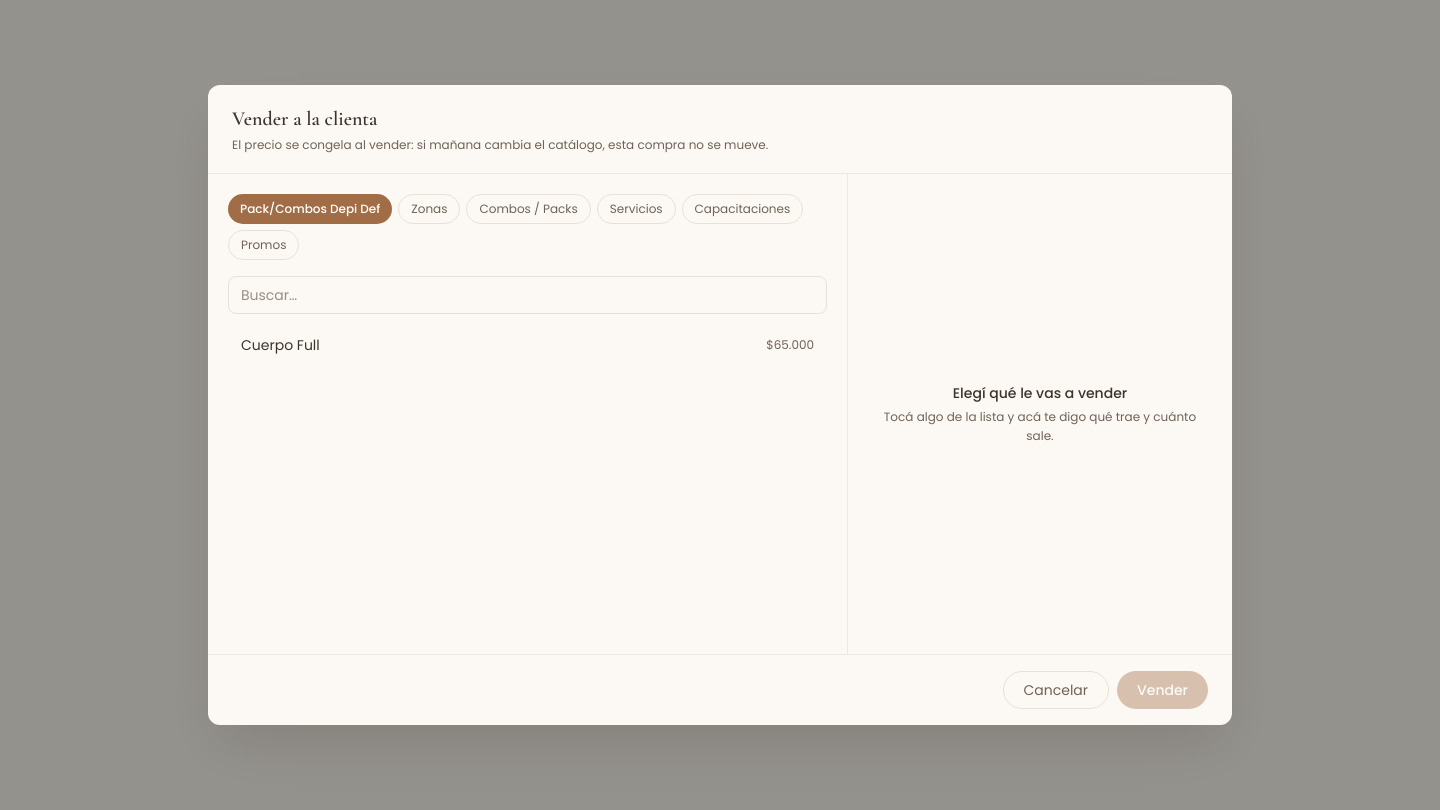
VenderModal — saldo a favor › si el saldo cubre todo, lo dice
Click the button "Cuerpo Full $65.000" at (280, 345), box [228,326,827,364]
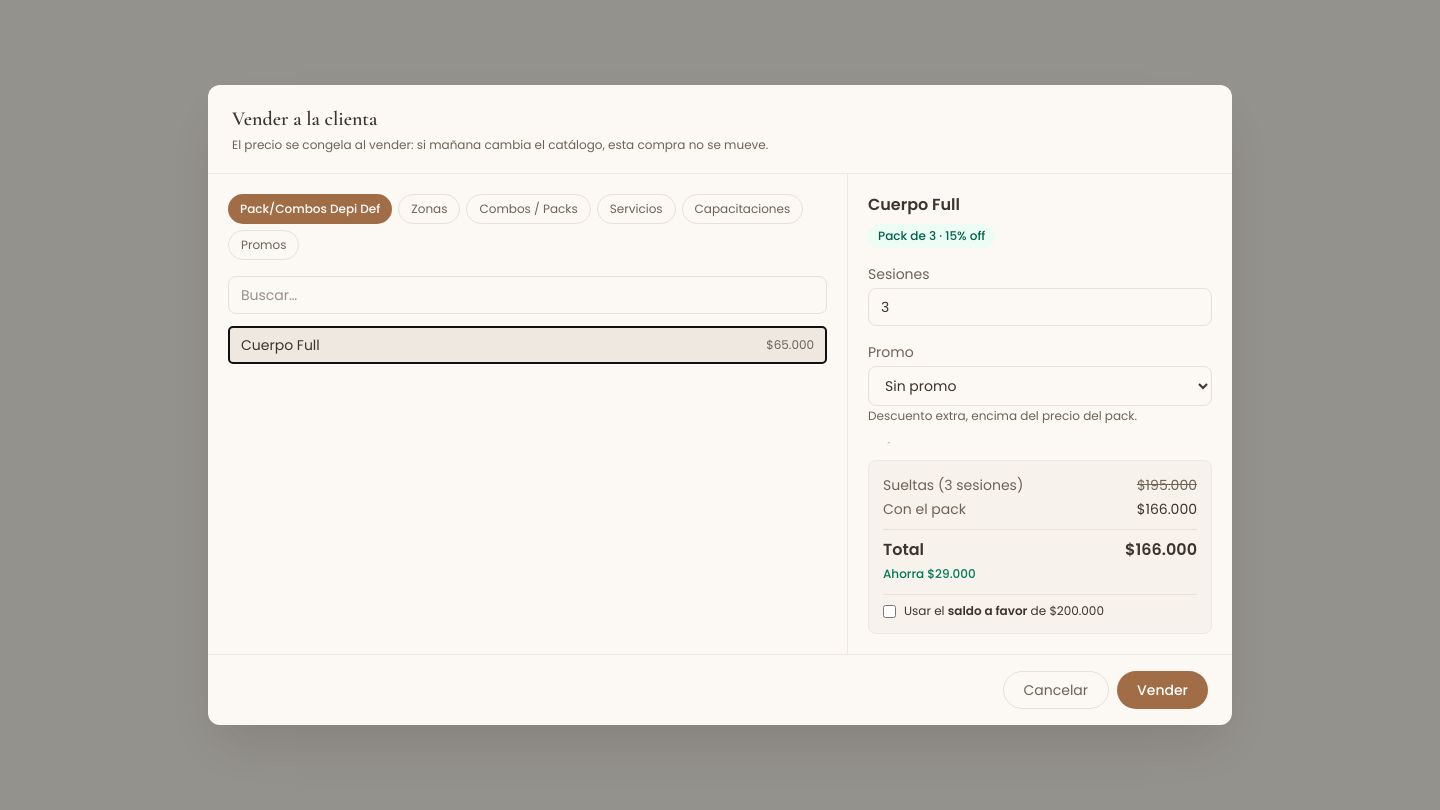
Click the checkbox labelled "Usar el saldo a favor de $200.000" at (890, 612), box [883,605,896,618]
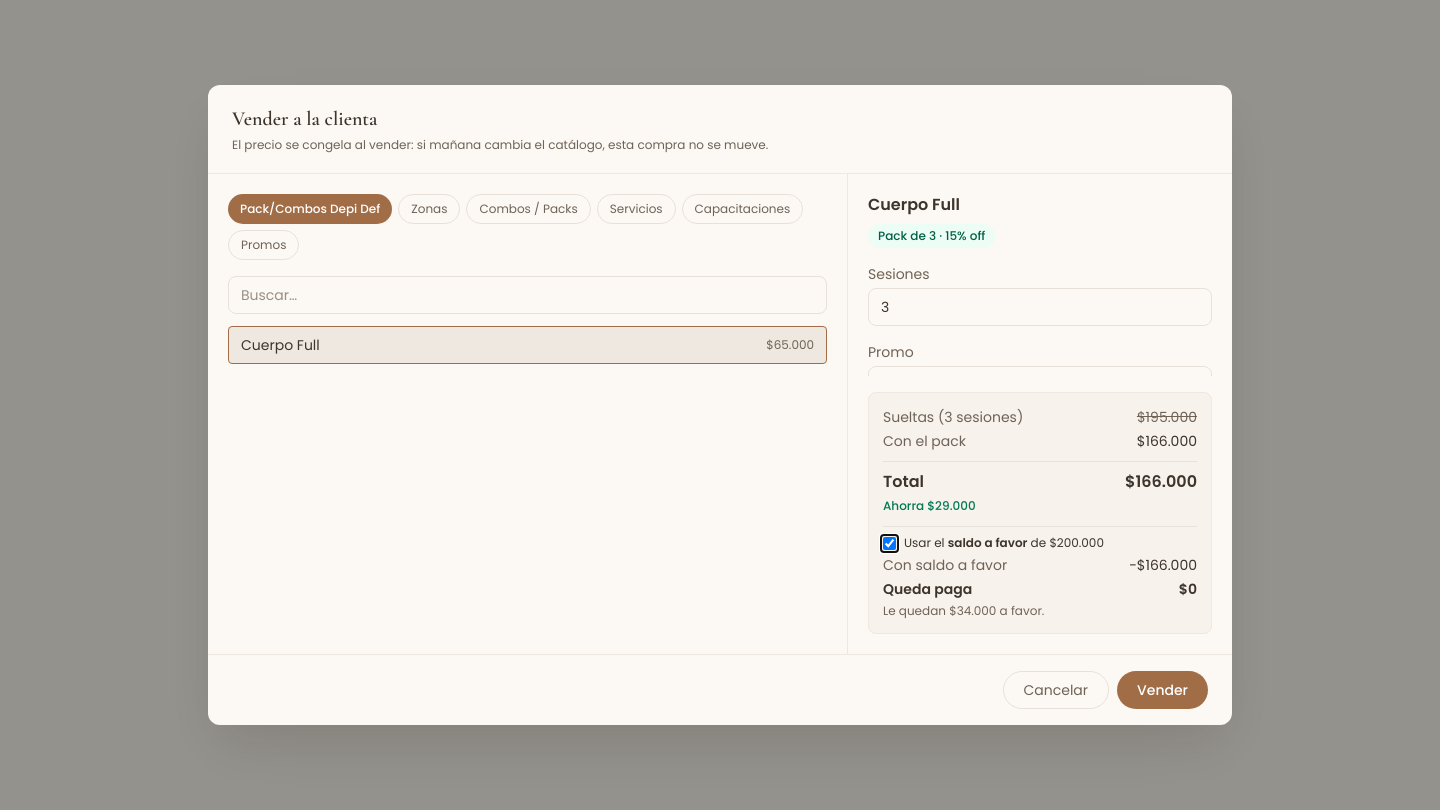
Check: the text "Queda paga" is shown, box [883,579,972,599]
